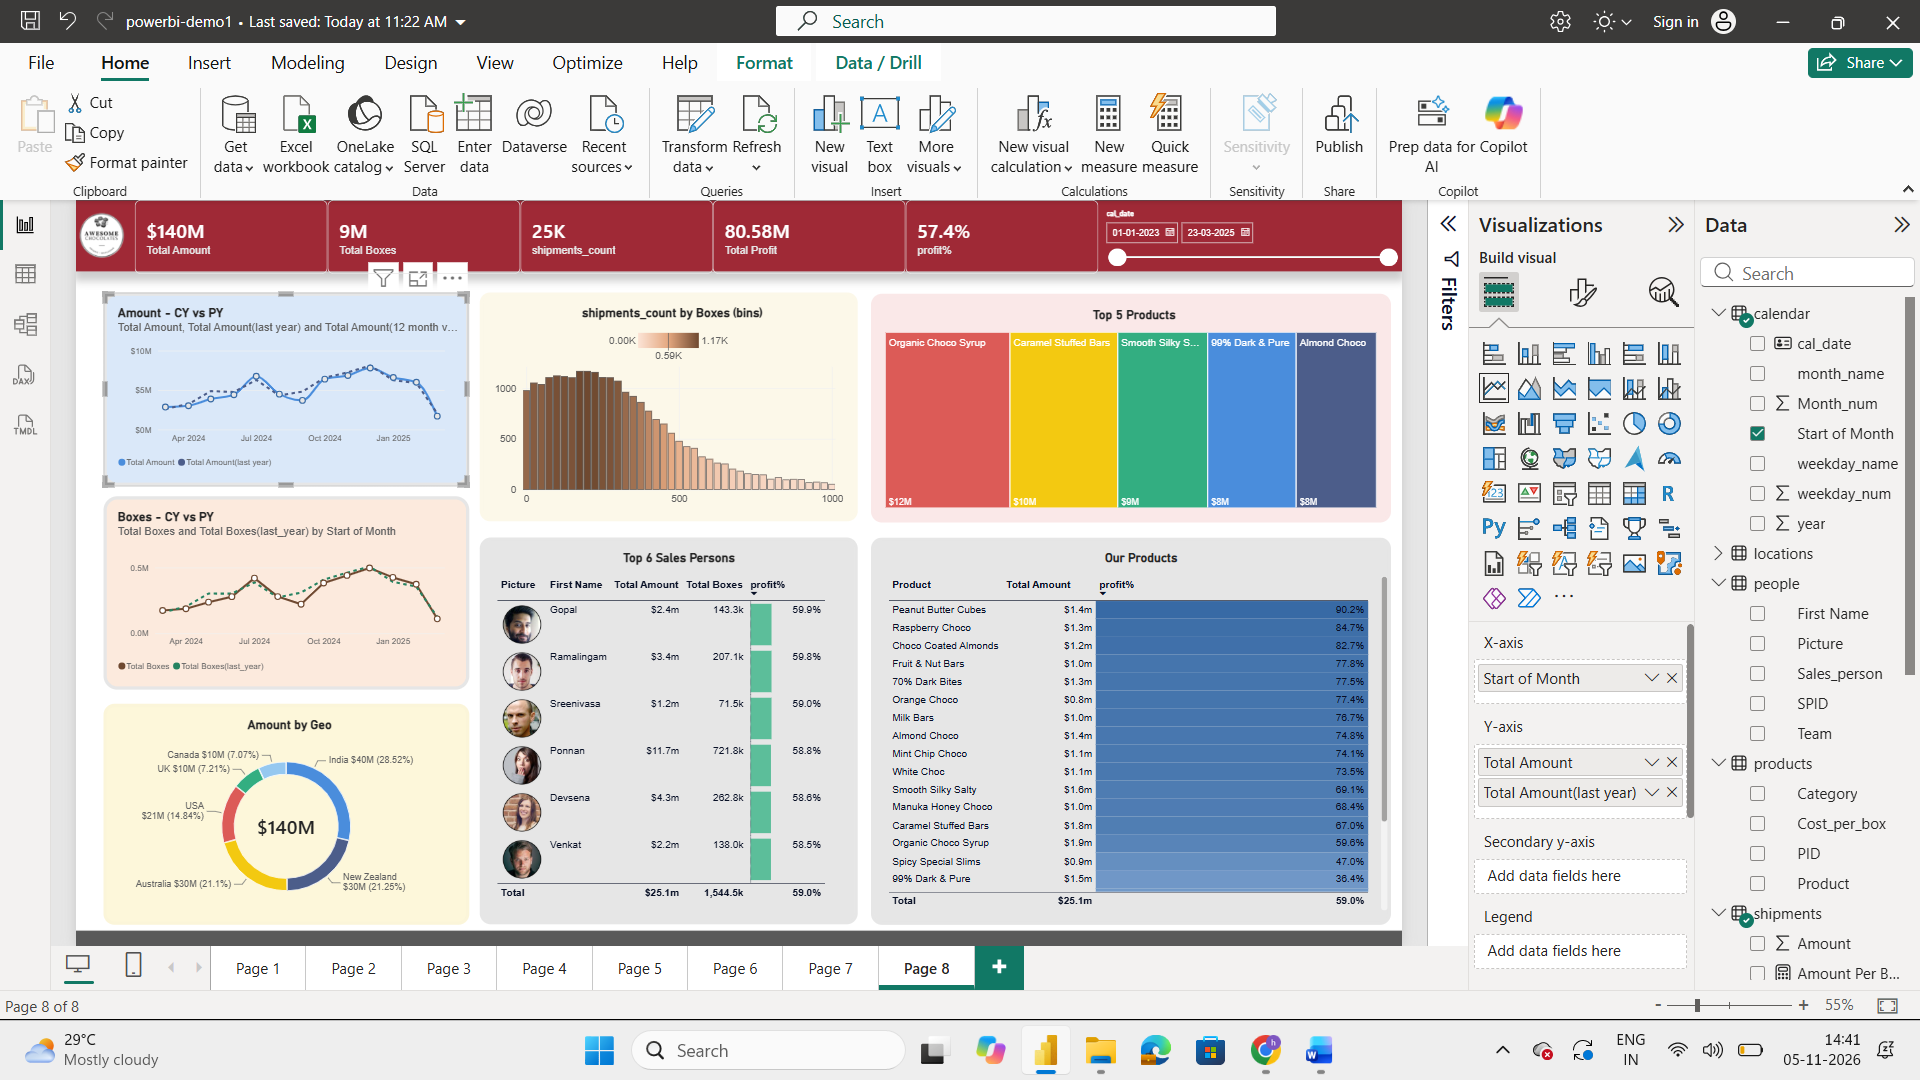

The page's visual inventory and layout, read from the dashboard file:
{"tool":"powerbi","page":{"name":"Page 8","canvas":[1920,1080],"ordinal":7},"visuals":[{"type":"lineChart","title":"Amount - CY vs PY","fields":{"Category":["calendar.Start of Month"],"Y":["shipments.Total Amount","shipments.Total Amount(last year)"]},"box":[39.2,133.3,529.4,280.4],"z":0},{"type":"lineChart","title":"Boxes - CY vs PY","fields":{"Category":["calendar.Start of Month"],"Y":["shipments.Total Boxes","shipments.Total Boxes(last_year)"]},"box":[39.2,429.4,529.4,280.4],"z":1000},{"type":"donutChart","title":" Amount by Geo","fields":{"Category":["locations.Geo"],"Y":["shipments.Total Amount"]},"box":[39.2,729.4,529.4,319.6],"z":2000},{"type":"clusteredColumnChart","fields":{"Category":["shipments.Boxes (bins)"],"Y":["shipments.shipments_count"]},"box":[584.6,133.8,547.5,331.4],"z":3000},{"type":"tableEx","title":"Top 6 Sales Persons","fields":{"Values":["people.Picture","people.First Name","shipments.Total Amount","shipments.Total Boxes","shipments.profit%"]},"box":[584.6,487.8,547.5,559.9],"z":4000},{"type":"treemap","title":"Top 5 Products","fields":{"Group":["products.Product"],"Values":["shipments.Total Amount"]},"box":[1150.9,135.7,752.8,331.2],"z":5000},{"type":"tableEx","title":"Our Products","fields":{"Values":["products.Product","shipments.Total Amount","shipments.profit%"]},"box":[1150.9,488.6,752.8,561],"z":6000},{"type":"cardVisual","fields":{"Data":["shipments.Total Amount","shipments.Total Boxes","shipments.shipments_count","shipments.Total Profit","shipments.profit%"]},"box":[84.4,0,1399.7,107],"z":6001},{"type":"slicer","fields":{"Values":["calendar.cal_date"]},"box":[1483.9,12.7,436.1,106.8],"z":6002}]}

Visuals, with their boxes on the page's 1920x1080 design canvas (x1, y1, x2, y2). These are canvas units, not pixel positions in the 1920x1080 screenshot, which may show the page scaled, cropped or inside an application window:
"Amount - CY vs PY" lineChart: <box>39,133,569,414</box>
"Boxes - CY vs PY" lineChart: <box>39,429,569,710</box>
" Amount by Geo" donutChart: <box>39,729,569,1049</box>
clusteredColumnChart - shipments.Boxes (bins) x shipments.shipments_count: <box>585,134,1132,465</box>
"Top 6 Sales Persons" tableEx: <box>585,488,1132,1048</box>
"Top 5 Products" treemap: <box>1151,136,1904,467</box>
"Our Products" tableEx: <box>1151,489,1904,1050</box>
cardVisual - shipments.Total Amount x shipments.Total Boxes: <box>84,0,1484,107</box>
slicer - calendar.cal_date: <box>1484,13,1920,120</box>
